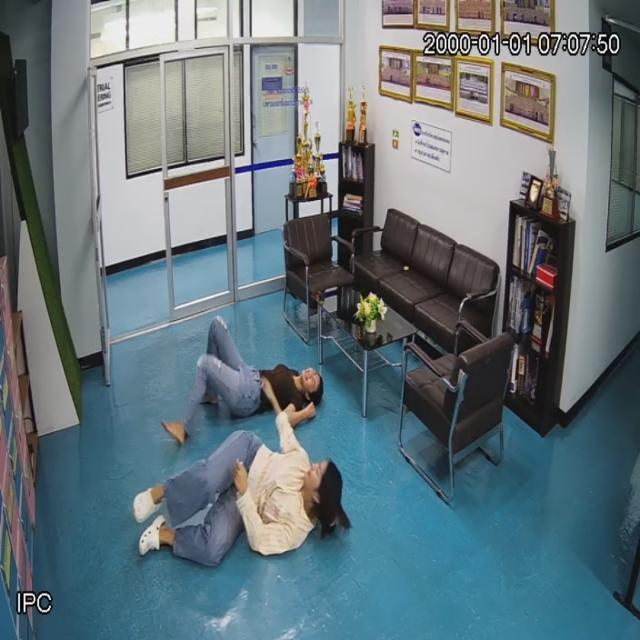fall: (130, 430, 344, 567), (175, 319, 325, 426)
